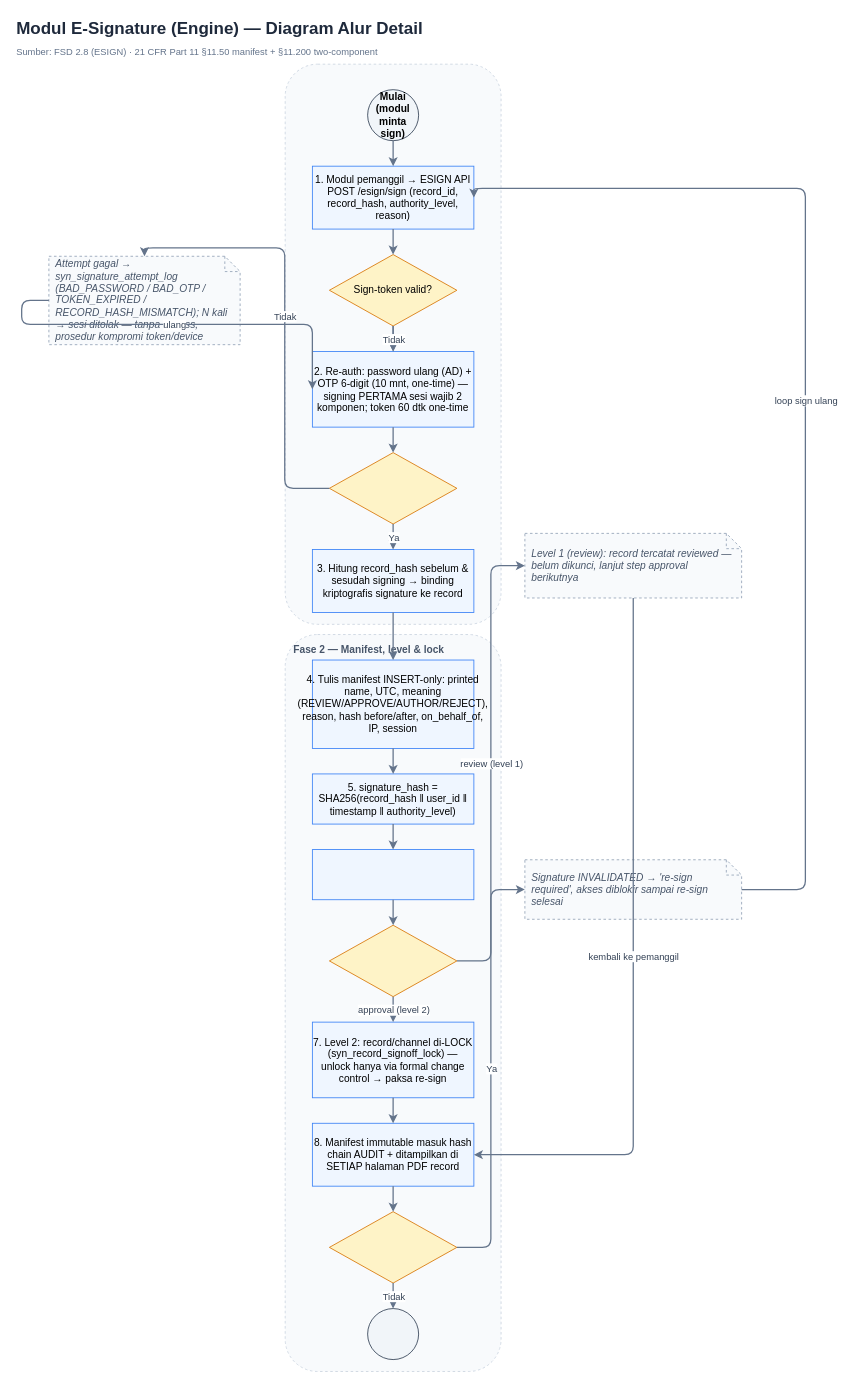
Image size: 852x1386. Some labels were removed from this diagram. The box of each missing label's shape, as (x1, y1, x2, y2) in pixels:
6. Konfirmasi eksplisit ke user: menerapkan e-signature + alasan (FS-ESIGN-09): (312, 849, 474, 900)
Authority level?: (329, 924, 457, 997)
Fase 1 — Re-authentication (2 komponen, §11.200): (284, 63, 501, 624)
Komponen lolos?: (329, 452, 457, 524)
Record berubah pasca-sign (delta-hash)?: (329, 1211, 457, 1283)
Selesai (manifest id → pemanggil): (367, 1308, 419, 1360)
